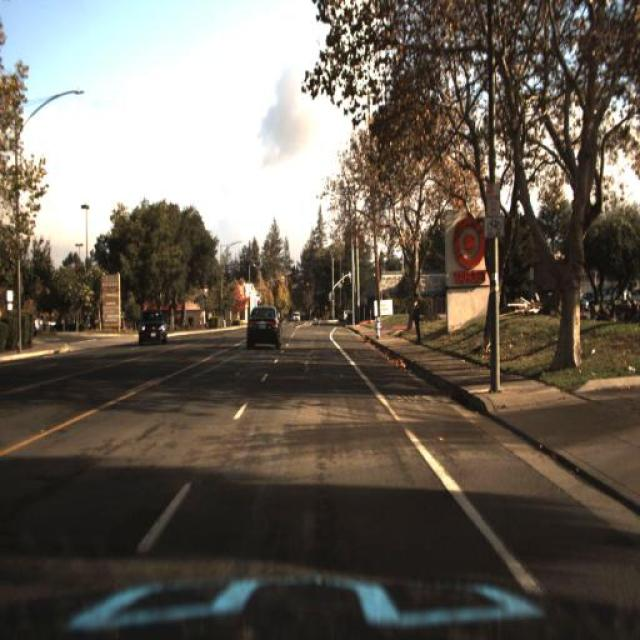car: (246, 296, 280, 346), (134, 308, 168, 348)
trafficLight: (409, 292, 425, 342)
